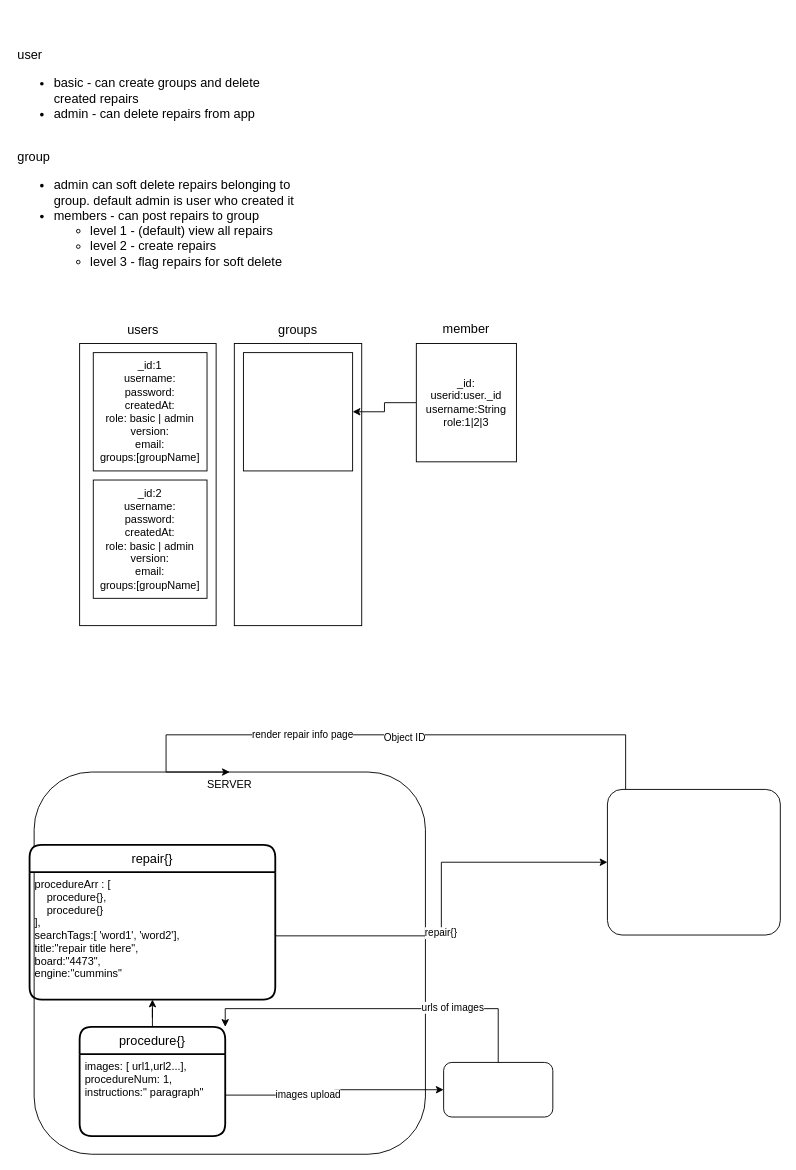
Some shapes in this 796 by 1170 pixel diagram are drawn without their labels. The centre of each missing label's shape, as x and y in pixels:
_id: name: members:[member] createdby:user._id admins:[createdby,]: the point at 298,411
Cloudinary DB: the point at 498,1089
MONGO DB: the point at 693,862
